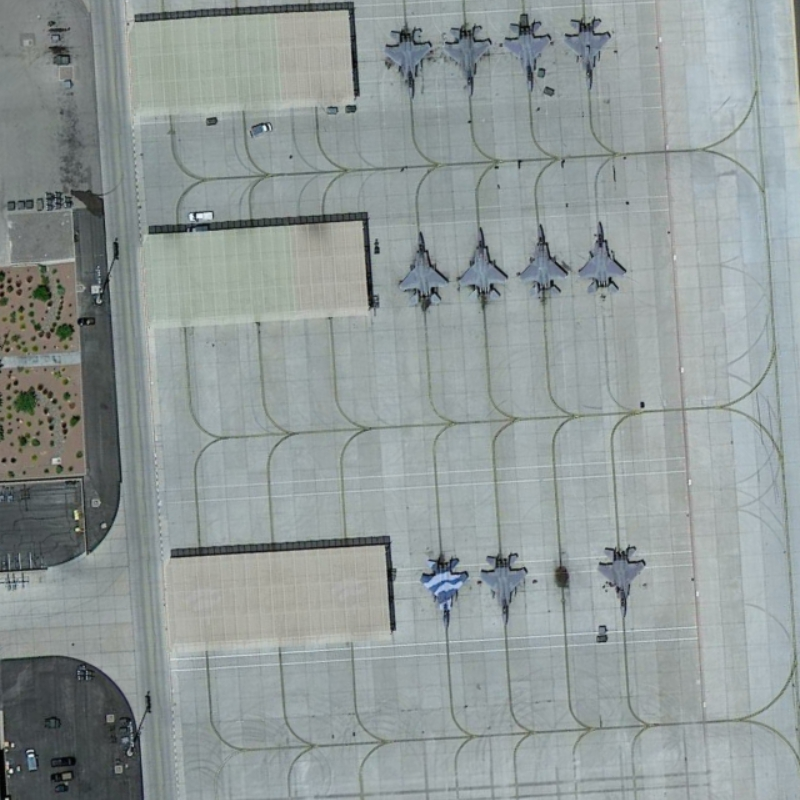A13: (513, 215, 573, 306), (559, 12, 620, 97), (393, 223, 449, 315), (592, 535, 651, 622), (376, 23, 437, 105), (475, 545, 533, 628), (454, 222, 509, 308), (576, 211, 629, 300), (417, 551, 473, 634), (503, 14, 554, 98), (442, 20, 494, 100)
